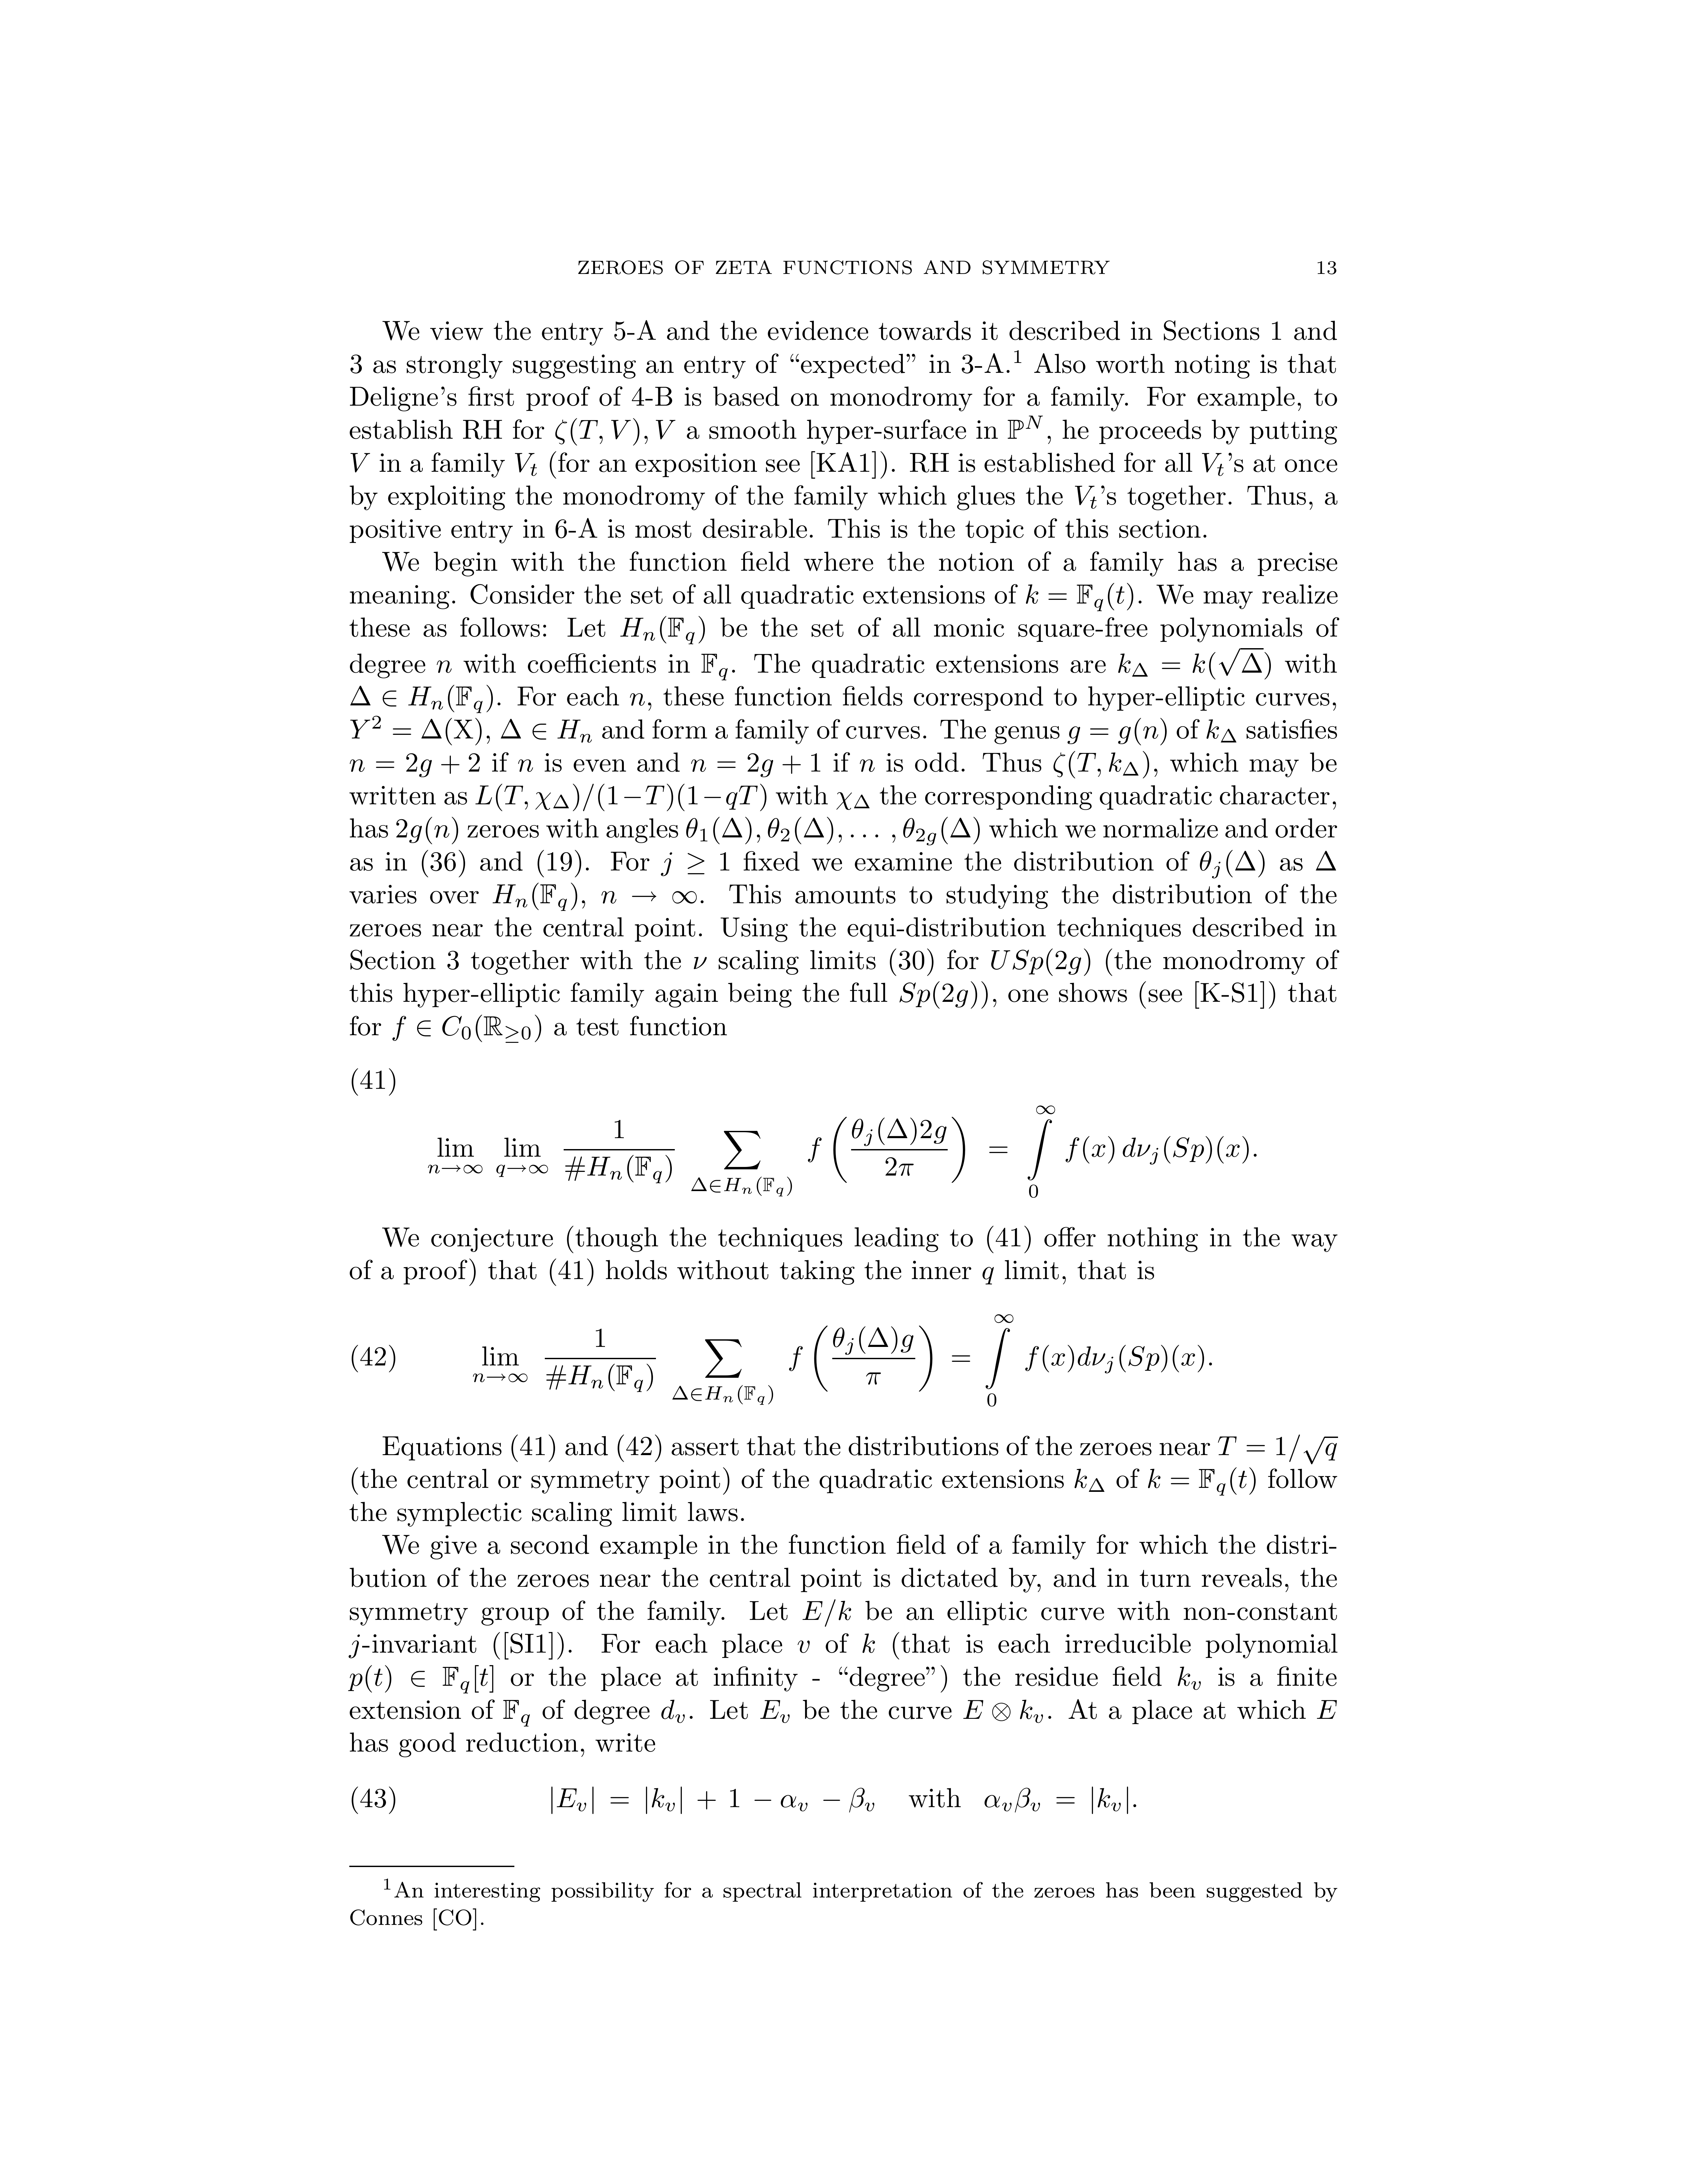maths: (473, 1314, 1203, 1406), (429, 1117, 966, 1197), (989, 1106, 1256, 1197), (551, 1787, 874, 1813), (475, 784, 766, 810), (1118, 649, 1271, 679), (392, 1014, 540, 1042), (347, 1665, 493, 1693), (351, 684, 493, 713), (351, 716, 489, 745), (985, 1787, 1127, 1813), (1217, 1434, 1338, 1464), (1026, 583, 1132, 612), (349, 753, 478, 776), (691, 753, 820, 776), (1148, 1468, 1255, 1494), (1067, 718, 1166, 745), (991, 948, 1090, 975), (493, 883, 585, 911), (1054, 752, 1148, 778), (555, 418, 647, 445), (900, 982, 987, 1009), (620, 617, 705, 644), (904, 817, 980, 846), (501, 720, 592, 743), (686, 817, 760, 844), (767, 817, 842, 844), (1200, 849, 1263, 877), (964, 1700, 1042, 1723), (397, 817, 457, 844), (661, 853, 728, 876), (803, 1599, 851, 1627), (602, 892, 696, 904), (1008, 415, 1042, 438), (503, 1700, 530, 1727), (1207, 720, 1237, 743), (1074, 1468, 1104, 1491), (702, 654, 727, 681), (760, 1700, 789, 1723), (836, 792, 870, 810), (661, 1700, 684, 1723), (1076, 486, 1097, 509), (1178, 1666, 1200, 1689), (516, 454, 537, 475), (1201, 454, 1223, 475), (656, 420, 675, 440), (1317, 851, 1336, 870), (985, 353, 1003, 372), (351, 454, 370, 472), (1317, 1700, 1336, 1718), (851, 835, 895, 842), (349, 1634, 360, 1657), (863, 1633, 875, 1652), (982, 1268, 994, 1283), (631, 693, 645, 706), (519, 759, 533, 771), (859, 759, 874, 771), (797, 1640, 810, 1652), (438, 661, 452, 672), (695, 957, 707, 968)
